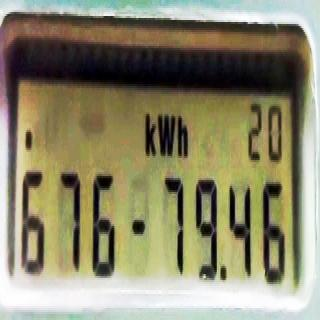-: (132, 211, 146, 240), (24, 125, 32, 157), (220, 259, 226, 285)
0: (267, 97, 283, 169)
2: (247, 97, 263, 168)
4: (227, 174, 254, 284)
6: (89, 165, 117, 284), (20, 167, 45, 287), (262, 177, 286, 287)
7: (59, 158, 83, 277), (164, 167, 186, 285)
9: (193, 170, 219, 284)
